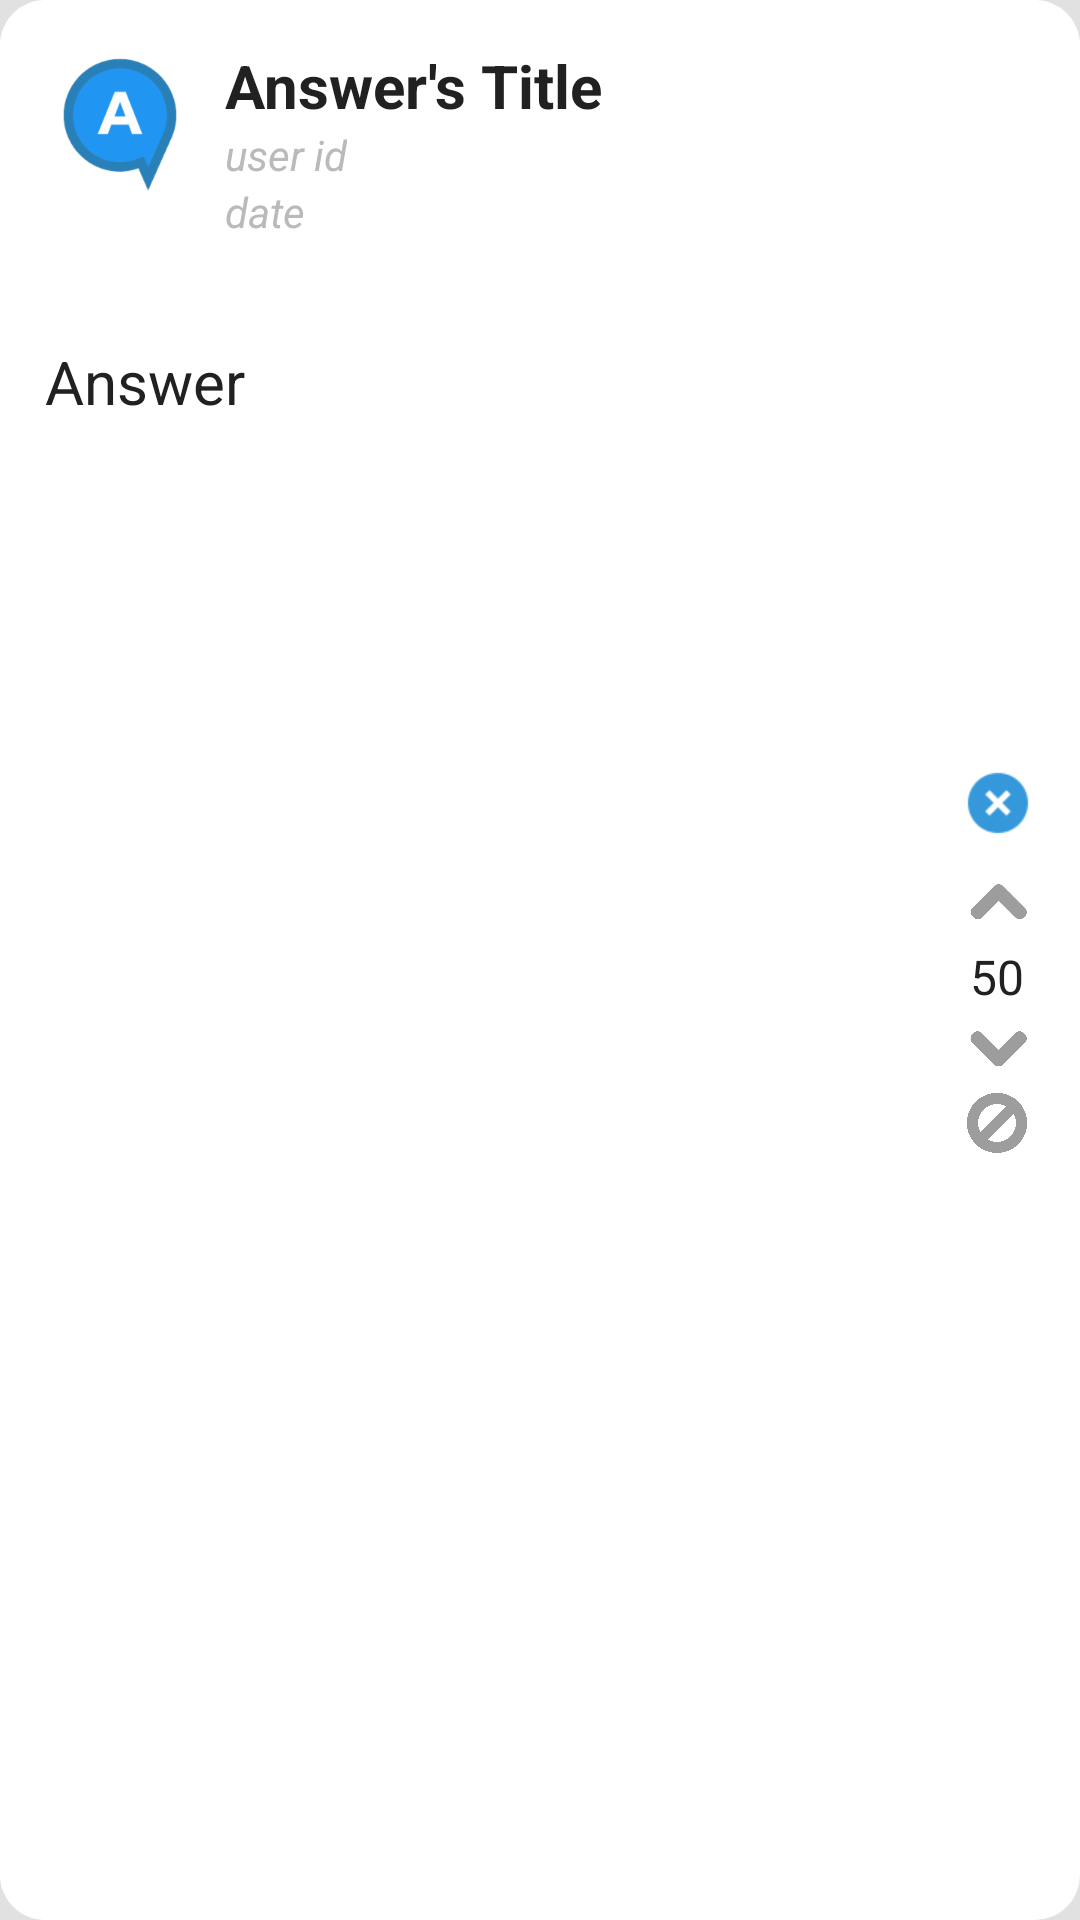

Icon click points for this 1080×1920 phone screenshot, format (x,y):
delete: (998,803)
downvote: (999,1048)
novote: (997,1123)
upvote: (999,901)
